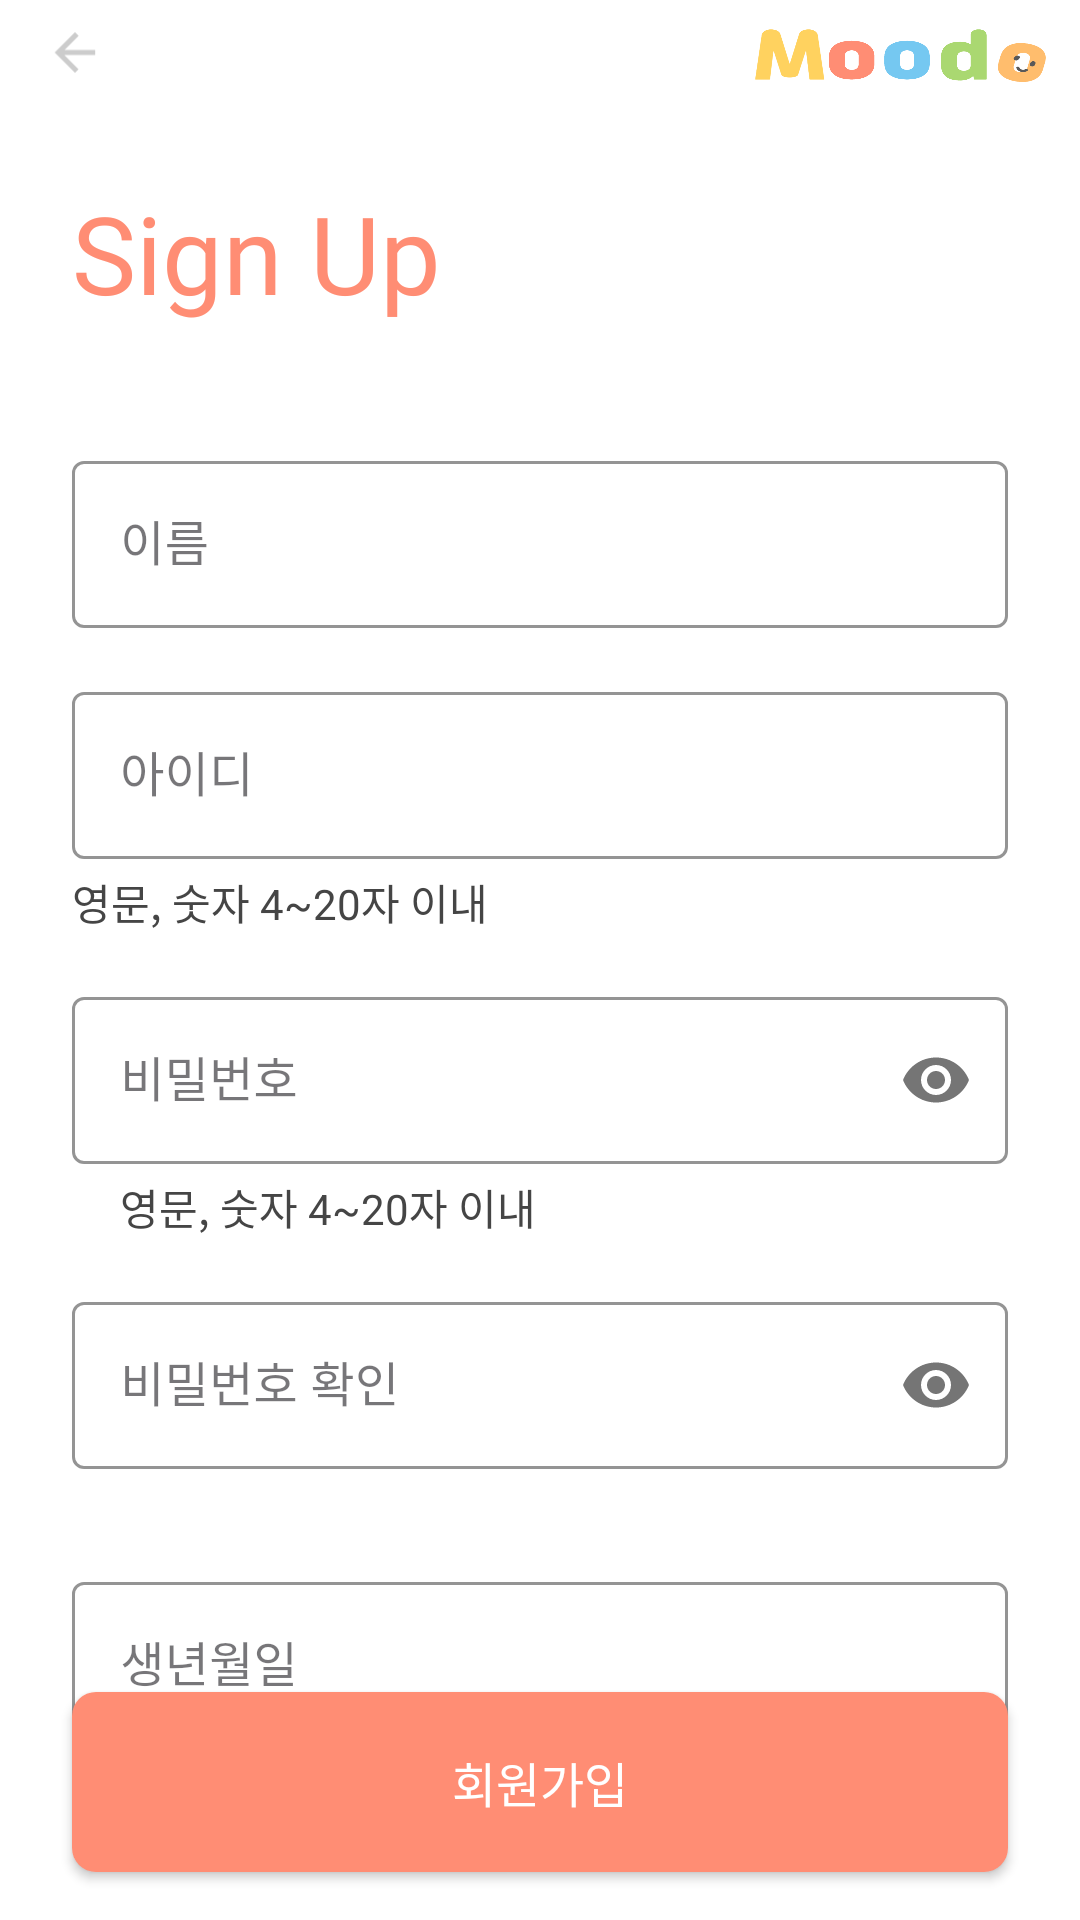

Where to tap for icons on this 1080px x 1920px app screen, as point (x, y):
back: point (75, 52)
